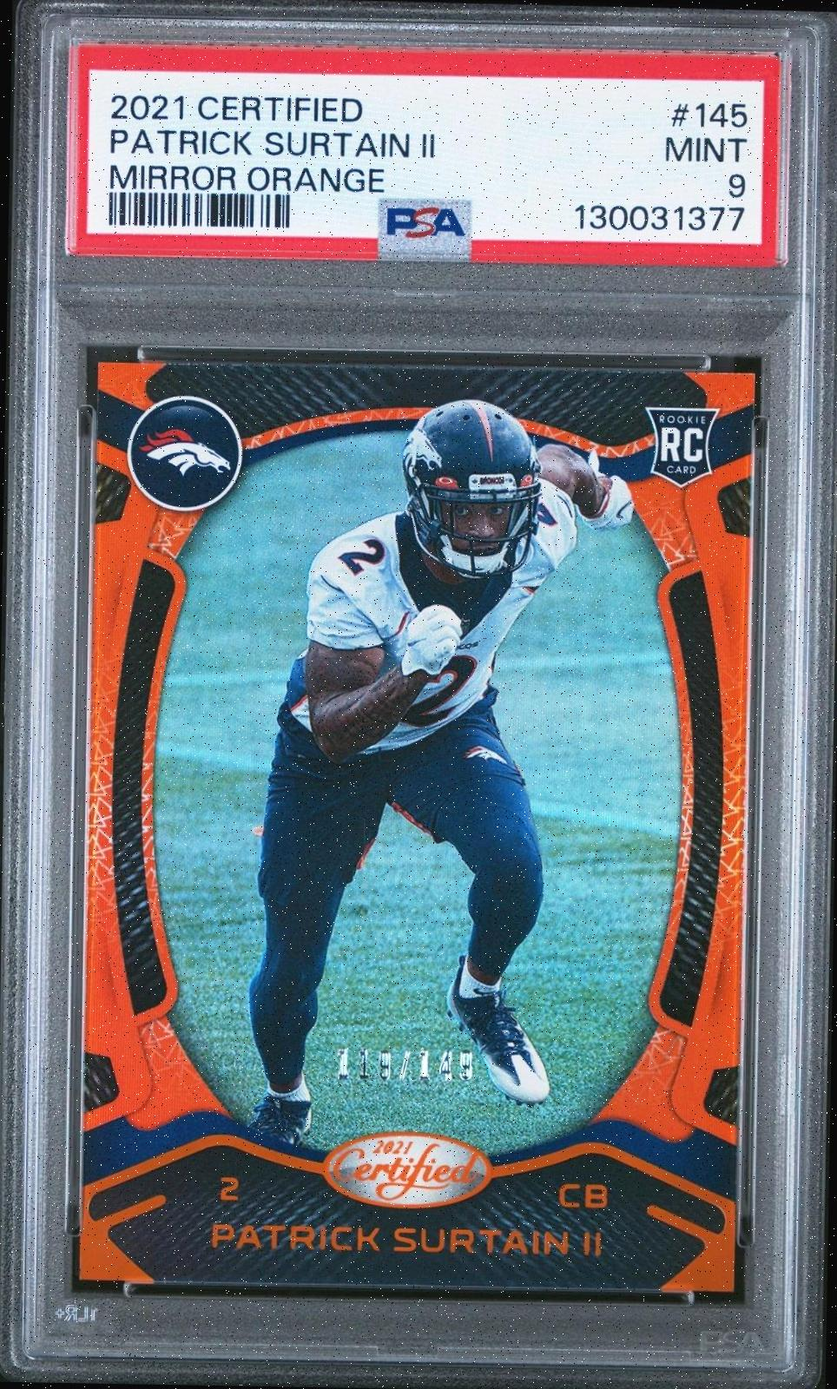card-2UtV: (77, 360, 756, 1293)
